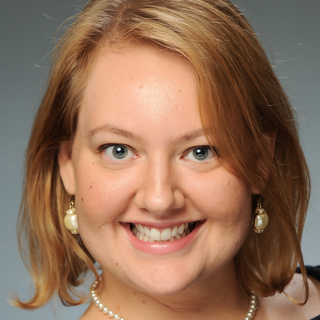eye: (93, 138, 147, 165), (173, 140, 226, 166)
